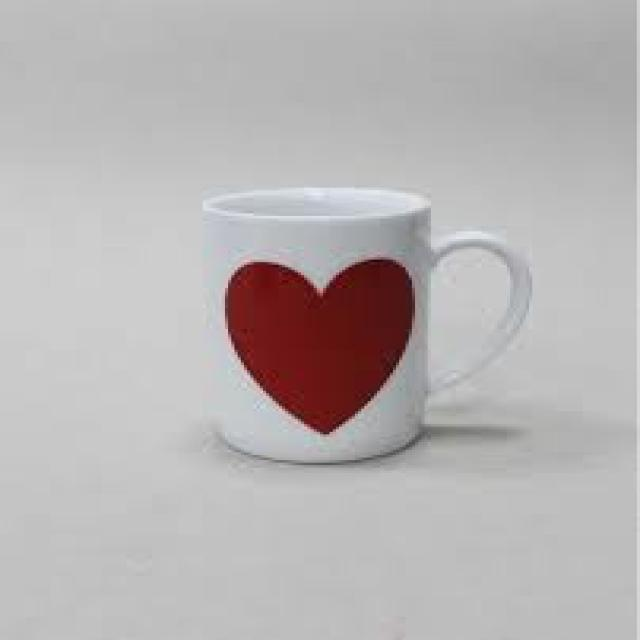taza: (204, 186, 536, 464)
